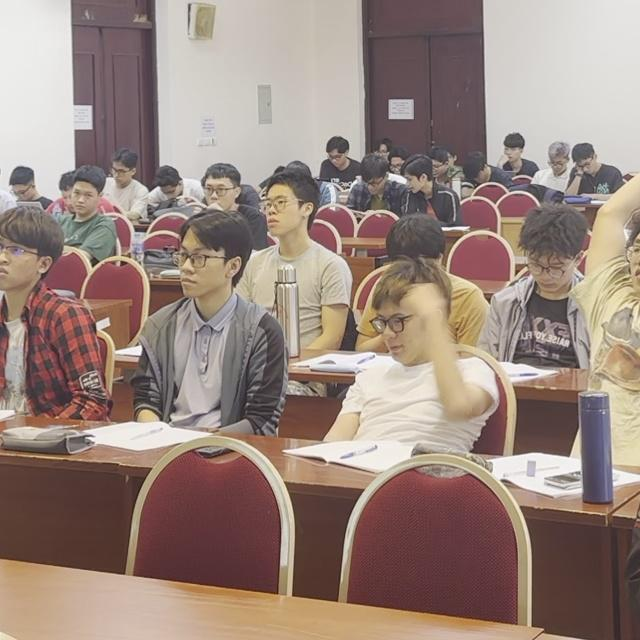Looking away: (356, 281, 434, 379), (503, 225, 572, 302), (82, 140, 143, 192), (387, 219, 441, 272), (416, 137, 457, 205), (356, 128, 401, 173), (320, 139, 367, 182), (464, 148, 501, 202), (396, 153, 433, 205), (362, 163, 398, 208), (548, 140, 576, 181), (154, 166, 185, 201), (2, 159, 30, 197), (59, 167, 76, 207)
Looking forward: (157, 217, 233, 316), (0, 196, 64, 303), (253, 169, 314, 249), (169, 166, 247, 222), (613, 177, 640, 301), (67, 174, 112, 237), (491, 123, 520, 193)
